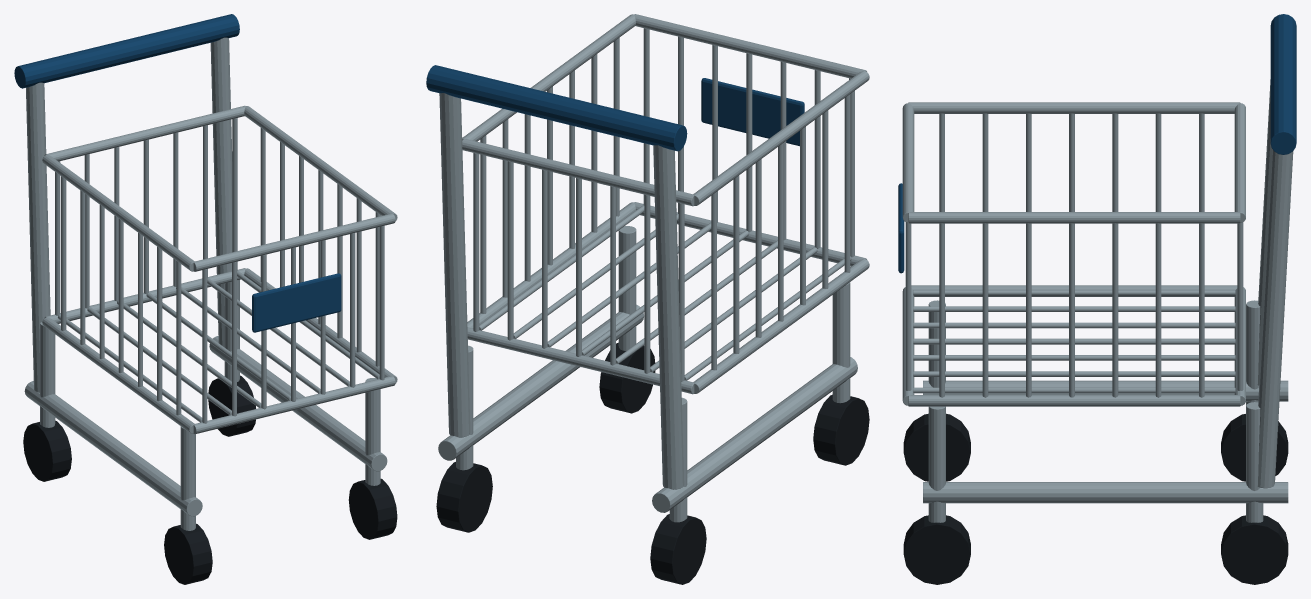
Rendered from shopping-cart.glb.
The picture shows the model from 3 angles, left to right: view 1: azimuth 30°, elevation 25°; view 2: azimuth 150°, elevation 25°; view 3: azimuth 270°, elevation 25°; orthographic projection. The views are drawn at different scales.
Visible parts, largest first — view 1: BASKET_WireLattice, HANDLE_Grip, FRAME_HandleSupport, FRAME_HandleSupport.001, FRAME_Base, EDITABLE_FrontPlate, FRAME_Base.001, CASTER_Wheel.003, CASTER_Wheel.002, CASTER_Wheel.001, BASKET_Rim.007, BASKET_Rim.003 (+11 smaller); view 2: BASKET_WireLattice, FRAME_HandleSupport.001, FRAME_HandleSupport, HANDLE_Grip, FRAME_Base, FRAME_Base.001, EDITABLE_FrontPlate, CASTER_Wheel.001, CASTER_Wheel.002, CASTER_Wheel, BASKET_Rim.007, BASKET_Rim (+11 smaller); view 3: BASKET_WireLattice, FRAME_Base.001, FRAME_HandleSupport.001, BASKET_Rim.006, BASKET_Rim.002, BASKET_Rim.005, CASTER_Wheel.003, CASTER_Wheel, HANDLE_Grip, FRAME_Base, CASTER_Wheel.001, BASKET_Rim.001 (+11 smaller).
Boxes of the visible parts, <box> form: BASKET_WireLattice: <box>55,118,384,423</box>; HANDLE_Grip: <box>14,14,239,88</box>; FRAME_HandleSupport: <box>26,82,50,392</box>; FRAME_HandleSupport.001: <box>210,37,232,347</box>; FRAME_Base: <box>24,381,202,516</box>; EDITABLE_FrontPlate: <box>252,273,341,332</box>; FRAME_Base.001: <box>209,336,387,471</box>; CASTER_Wheel.003: <box>348,478,397,539</box>; CASTER_Wheel.002: <box>23,420,71,481</box>; CASTER_Wheel.001: <box>164,523,212,584</box>; BASKET_Rim.007: <box>193,213,395,271</box>; BASKET_Rim.003: <box>193,376,395,434</box>; BASKET_WireLattice: <box>473,28,854,381</box>; FRAME_HandleSupport.001: <box>439,93,470,437</box>; FRAME_HandleSupport: <box>653,145,684,489</box>; HANDLE_Grip: <box>426,65,687,151</box>; FRAME_Base: <box>652,357,857,512</box>; FRAME_Base.001: <box>438,304,643,460</box>; EDITABLE_FrontPlate: <box>701,78,804,146</box>; CASTER_Wheel.001: <box>813,394,869,465</box>; CASTER_Wheel.002: <box>650,514,706,584</box>; CASTER_Wheel: <box>436,462,492,532</box>; BASKET_Rim.007: <box>634,14,866,78</box>; BASKET_Rim: <box>462,139,694,206</box>; BASKET_WireLattice: <box>905,113,1243,397</box>; FRAME_Base.001: <box>923,482,1288,503</box>; FRAME_HandleSupport.001: <box>1257,149,1293,488</box>; BASKET_Rim.006: <box>908,212,1240,223</box>; BASKET_Rim.002: <box>908,395,1240,406</box>; BASKET_Rim.005: <box>908,102,1240,113</box>; CASTER_Wheel.003: <box>903,515,970,584</box>; CASTER_Wheel: <box>1221,515,1288,584</box>; HANDLE_Grip: <box>1270,14,1296,154</box>; FRAME_Base: <box>923,380,1288,401</box>; CASTER_Wheel.001: <box>903,413,970,481</box>; BASKET_Rim.001: <box>911,285,1237,296</box>.
Bounding box in the file's own units: 0.58 × 1.05 × 0.828.
